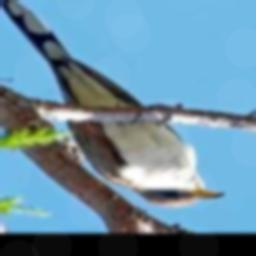Cuckoo: (0, 0, 227, 208)
